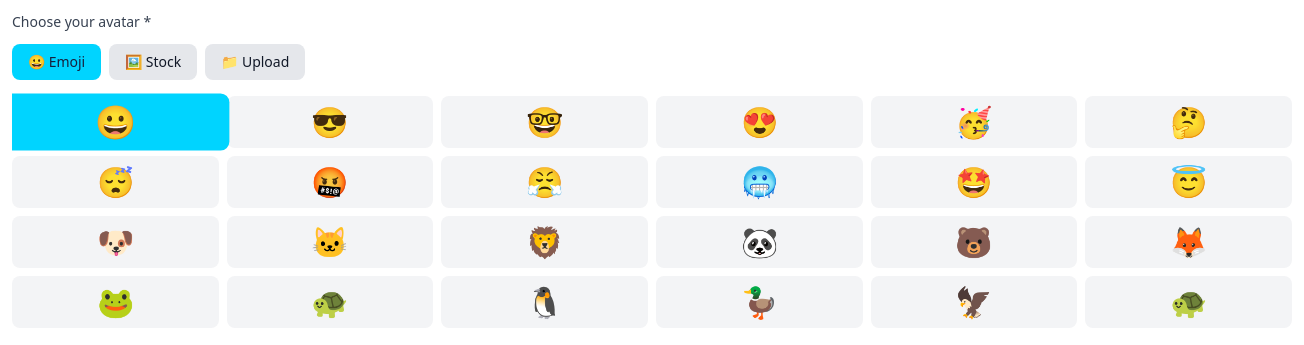
it: AvatarSelector › should show loading state when loading stock images
This screenshot has width=1304, height=345.
Click the button "🖼️ Stock".
click(153, 62)  # box [109,44,197,80]
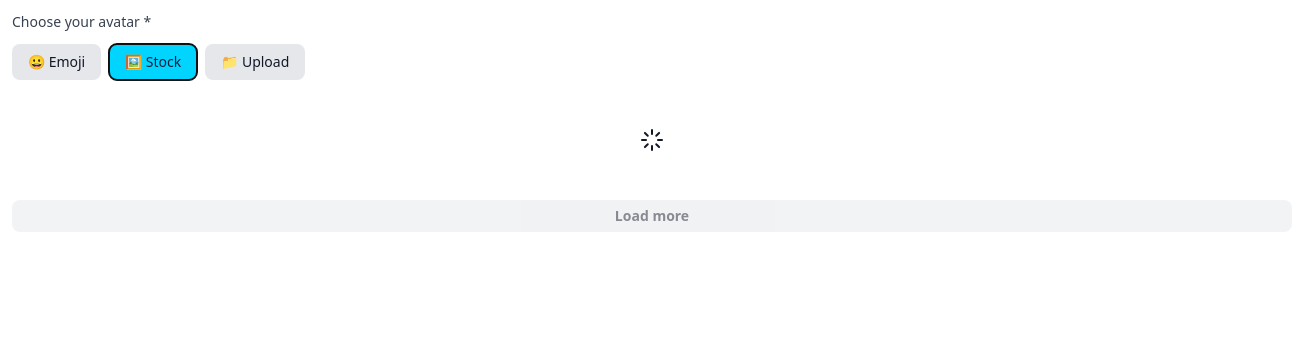
Expected: the icon with test id "loader-icon" is shown, [640,128,664,152]
